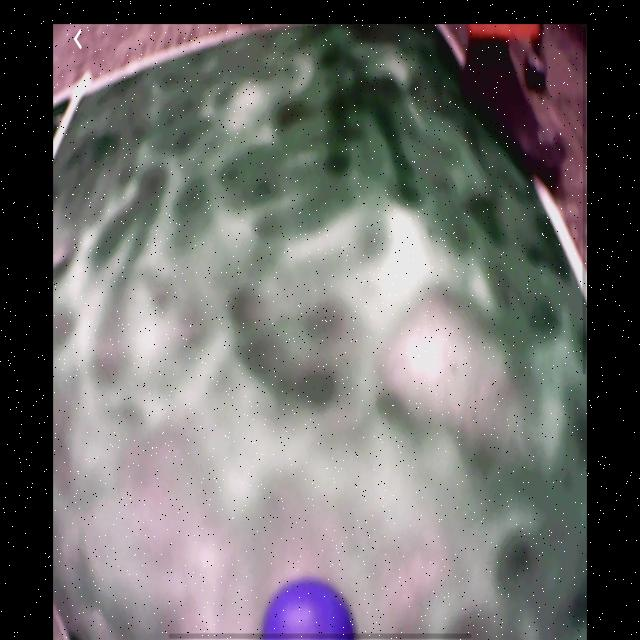ball: (261, 582, 356, 640)
